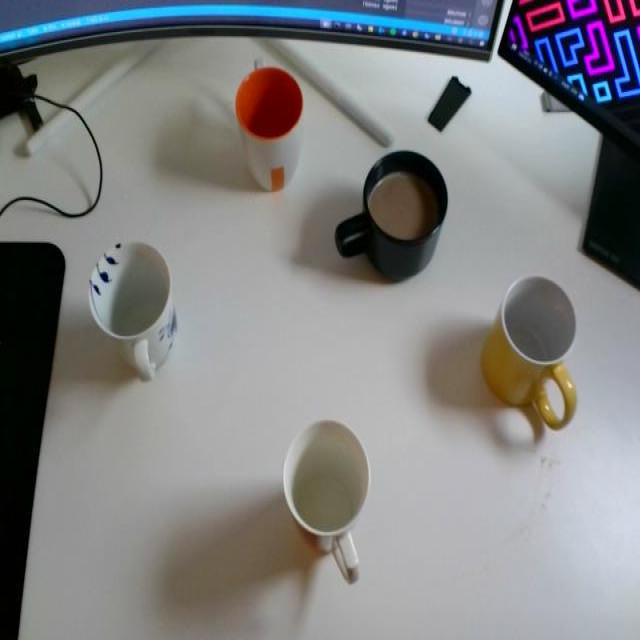cup: (477, 260, 588, 452), (334, 138, 455, 298), (282, 390, 376, 595), (81, 223, 182, 395), (220, 53, 314, 212)
